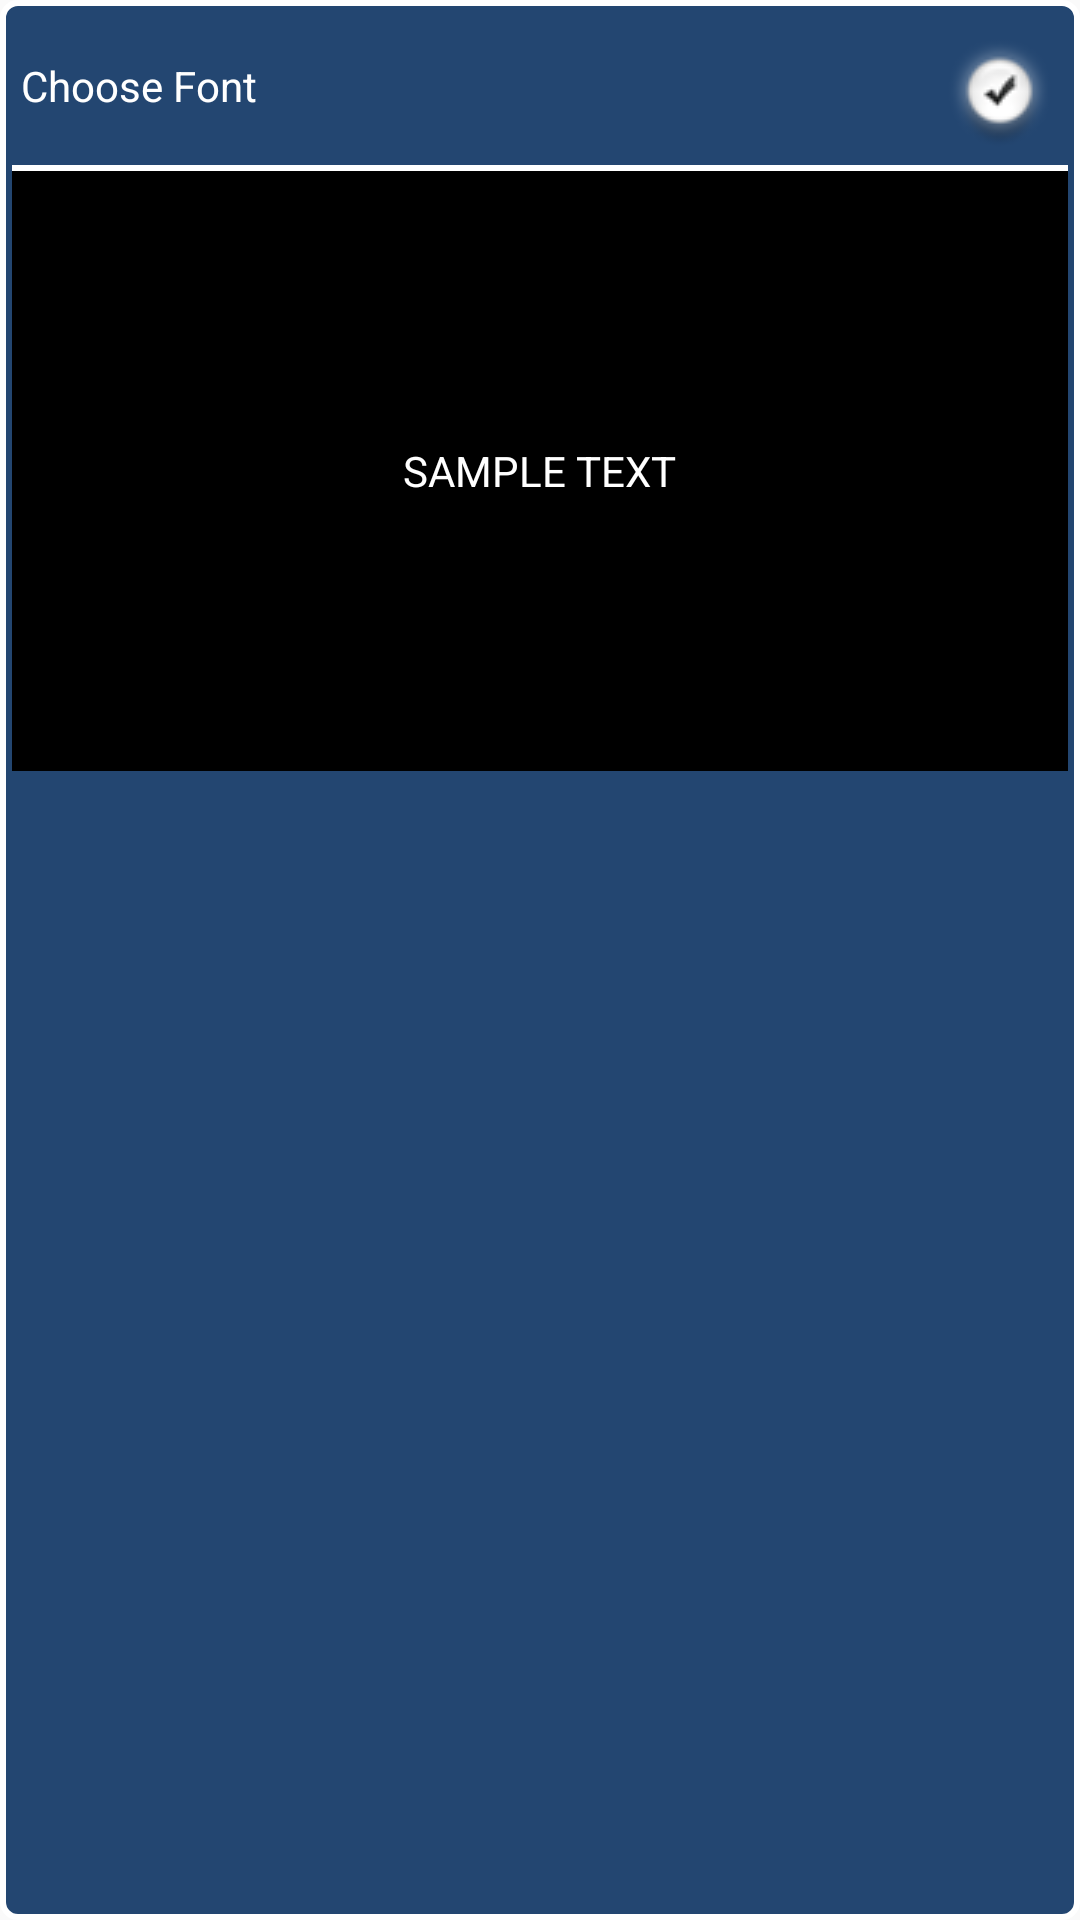

Point at icon controls on the screen. Image size 1080*1920, points as point (x, y).
tick: point (1000, 90)
